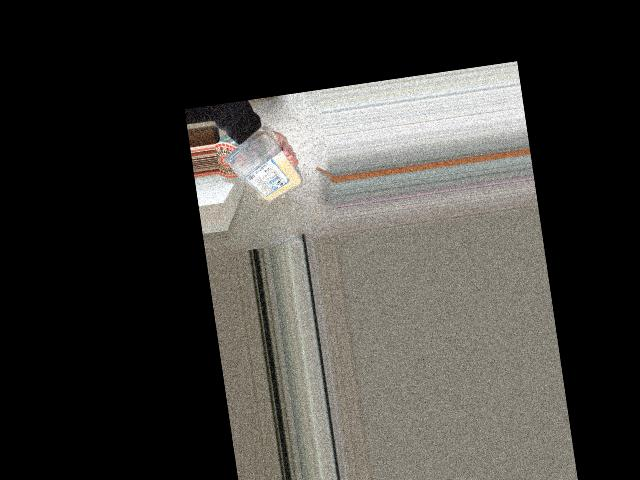cheese: (219, 139, 300, 210)
